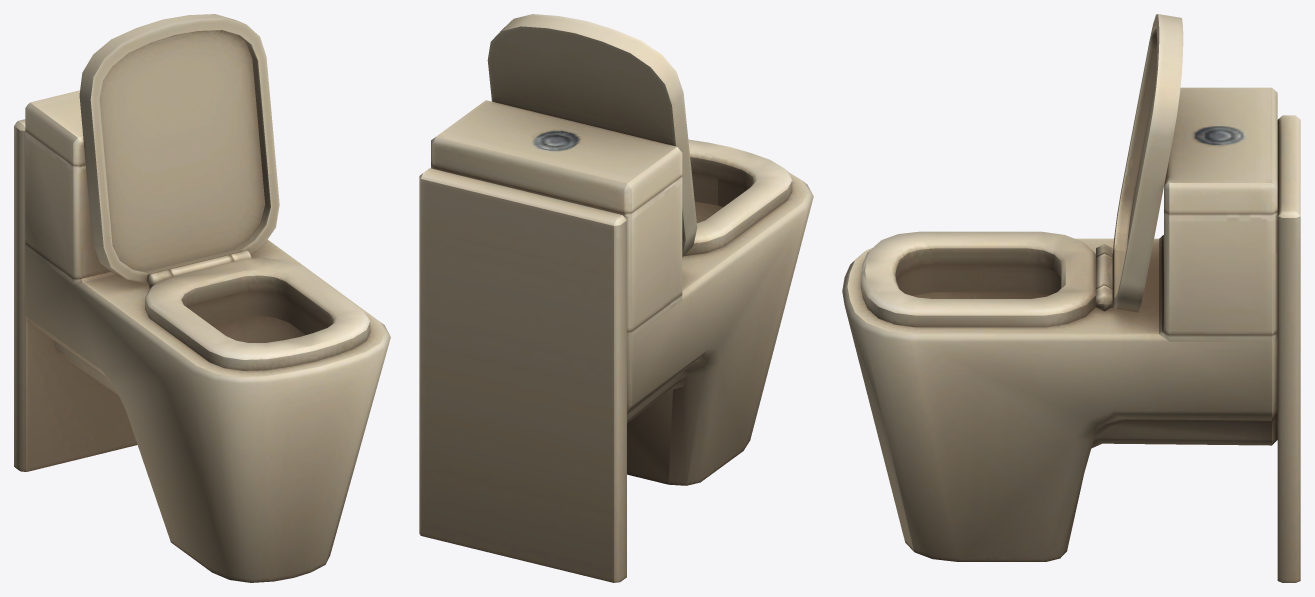
Rendered from CompactLavatory.fbx.
The picture shows the model from 3 angles, left to right: view 1: azimuth 30°, elevation 25°; view 2: azimuth 150°, elevation 25°; view 3: azimuth 270°, elevation 25°; orthographic projection. The views are drawn at different scales.
Parts seen in each view (by area): view 1: TinyLiving_CompactLavatory; view 2: TinyLiving_CompactLavatory; view 3: TinyLiving_CompactLavatory.
Boxes of the visible parts, bbox=[...] form: TinyLiving_CompactLavatory: bbox=[14, 14, 390, 582]; TinyLiving_CompactLavatory: bbox=[419, 14, 813, 582]; TinyLiving_CompactLavatory: bbox=[842, 14, 1300, 582].
Size of the model in its own units: 38.5 by 89.25 by 74.4.
